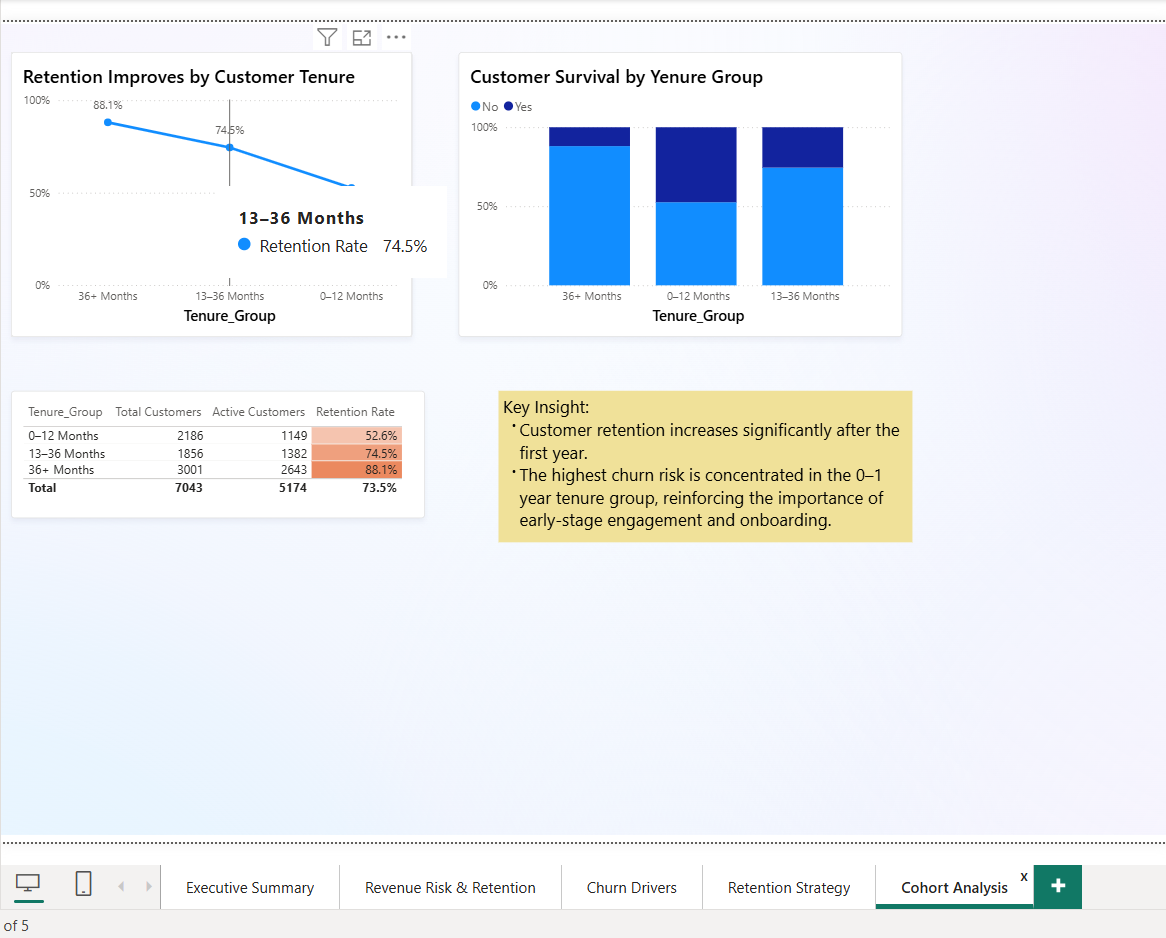

The page's visual inventory and layout, read from the dashboard file:
{"tool":"powerbi","page":{"name":"Cohort Analysis","canvas":[1280,900],"ordinal":4},"visuals":[{"type":"lineChart","title":"Retention Improves by Customer Tenure","fields":{"Category":["customers.Tenure_Group"],"Y":["customers.Retention Rate"]},"box":[11,32.9,440.5,312.9],"z":0},{"type":"tableEx","fields":{"Values":["customers.Tenure_Group","customers.Total Customers","customers.Active Customers","customers.Retention Rate"]},"box":[11,404.8,454.2,140],"z":1},{"type":"hundredPercentStackedColumnChart","title":"Customer Survival by Yenure Group","fields":{"Category":["customers.Tenure_Group"],"Series":["customers.Churn"],"Y":["CountNonNull(customers.customerID)"]},"box":[502.2,32.9,487.1,312.9],"z":2},{"type":"textbox","box":[546.1,404.8,454.2,166],"z":3}]}

Visuals, with their boxes on the page's 1280x900 design canvas (x1, y1, x2, y2). These are canvas units, not pixel positions in the 1166x938 screenshot, which may show the page scaled, cropped or inside an application window:
"Retention Improves by Customer Tenure" lineChart: {"left": 11, "top": 33, "right": 452, "bottom": 346}
tableEx - customers.Tenure_Group x customers.Total Customers: {"left": 11, "top": 405, "right": 465, "bottom": 545}
"Customer Survival by Yenure Group" hundredPercentStackedColumnChart: {"left": 502, "top": 33, "right": 989, "bottom": 346}
textbox: {"left": 546, "top": 405, "right": 1000, "bottom": 571}
